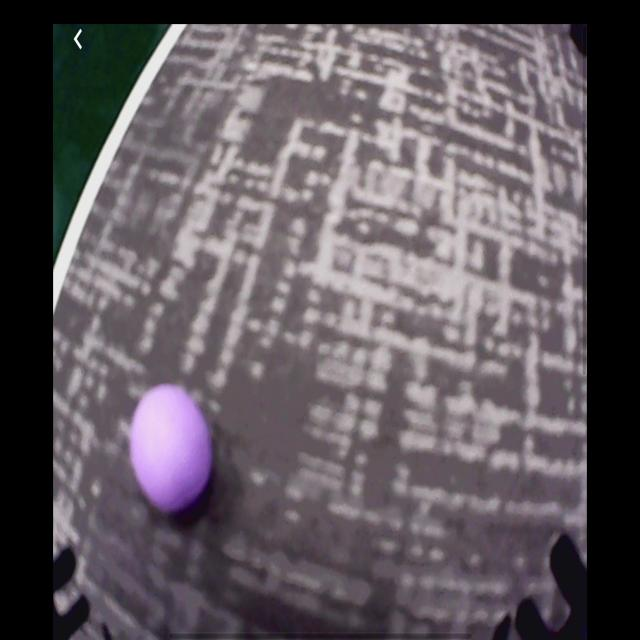ball: (130, 387, 211, 512)
